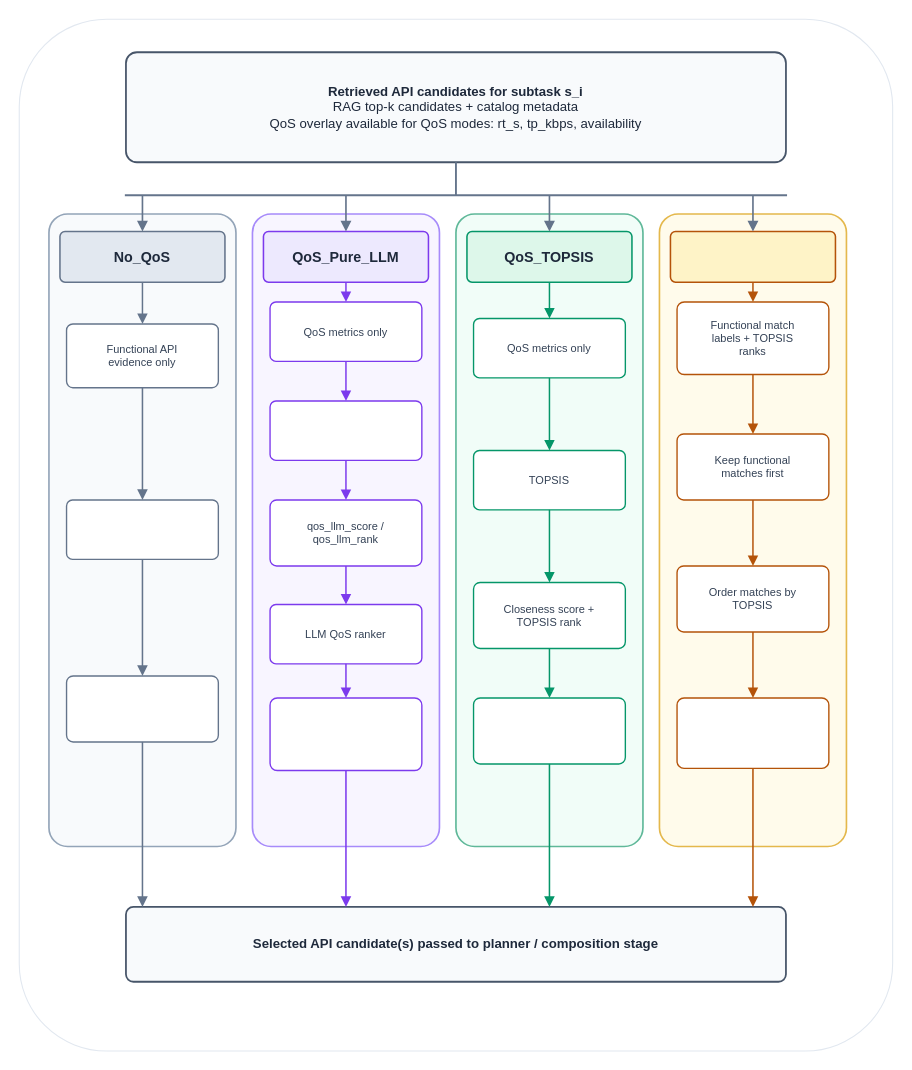
The diagram is 912 pixels wide and 1070 high, and some of its shapes have lost their labels. The shapes that lost their labels are listed below. From the top down, each one's box as (x1, y1, x2, y2) in pixels, then its label:
(669, 230, 836, 282): QoS_Hybrid
(269, 400, 422, 461): LLM QoS scorer
(65, 499, 219, 560): LLM ranker
(65, 675, 219, 742): Ranked APIs by task relevance
(269, 697, 422, 771): Ranked APIs by LLM QoS judgement
(472, 697, 626, 764): Deterministic QoS-ranked APIs
(676, 697, 829, 769): Functional-first QoS-ranked APIs
